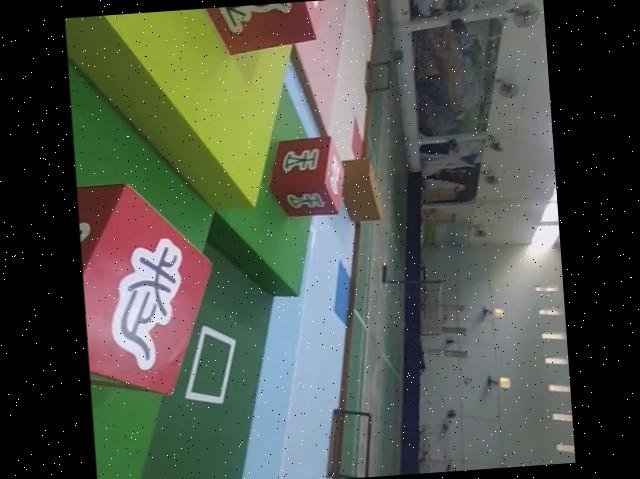R2 Fake: (76, 168, 227, 404)
R2 Real: (174, 0, 336, 58), (262, 131, 349, 223)
